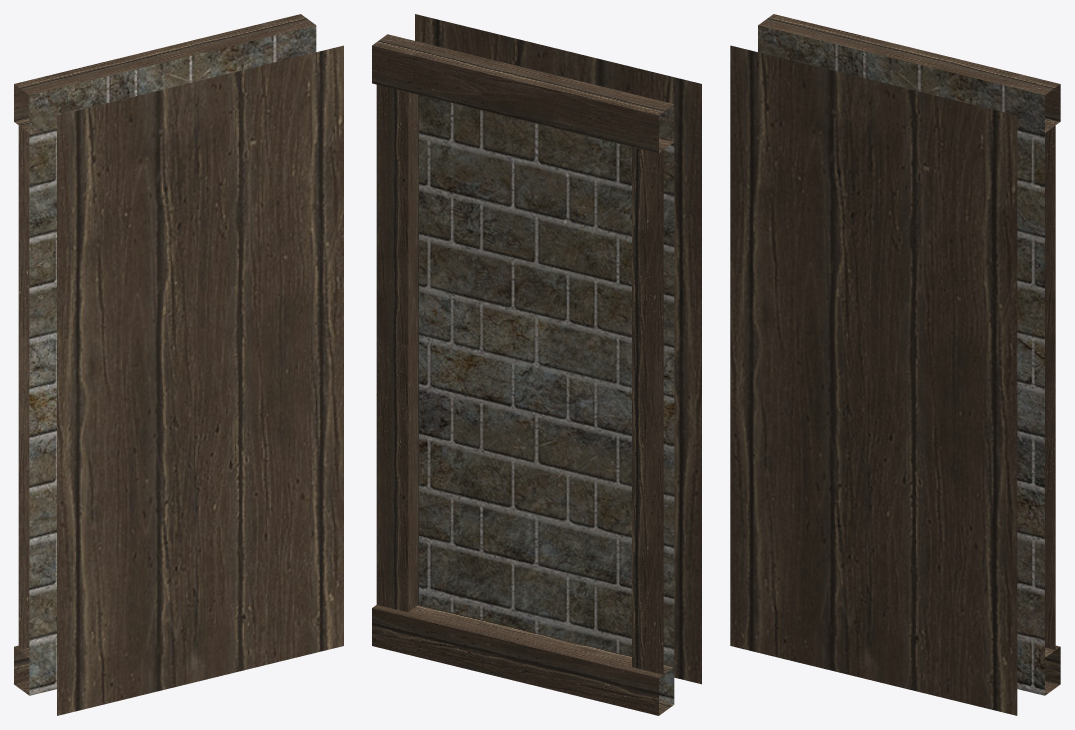
Rendered from ARC1010209.fbx.
The picture shows the model from 3 angles, left to right: view 1: azimuth 30°, elevation 25°; view 2: azimuth 150°, elevation 25°; view 3: azimuth 330°, elevation 25°; orthographic projection.
Visible parts, largest first — view 1: smARC1010209; view 2: smARC1010209; view 3: smARC1010209.
Boxes of the visible parts, bbox=[...] form: smARC1010209: bbox=[14, 14, 343, 715]; smARC1010209: bbox=[372, 14, 701, 715]; smARC1010209: bbox=[730, 14, 1060, 715].
Size of the model in its own units: 134 by 268 by 34.9.
Materials: 1 (1 with a texture image).
